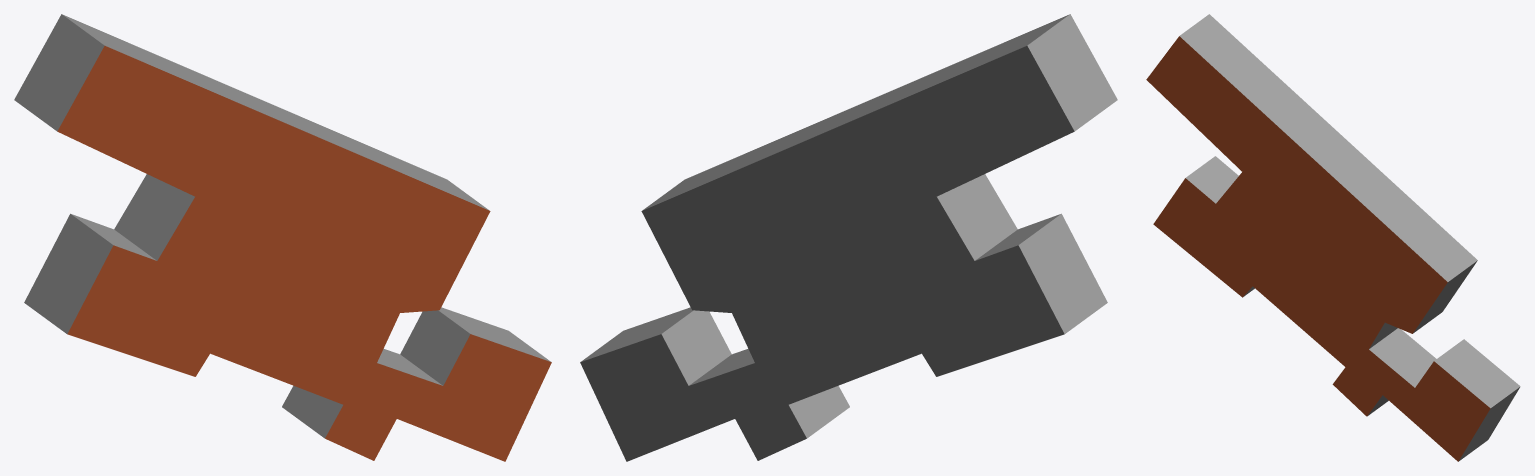
The model's file is construction_3163_assumed_A_Casa_h6m.obj.
3 views of the same model, side by side, from view 1: azimuth 30°, elevation 25°; view 2: azimuth 150°, elevation 25°; view 3: azimuth 330°, elevation 25° (orthographic). The views are drawn at different scales.
Parts seen in each view (by area): view 1: construction_3163_assumed_A_Casa; view 2: construction_3163_assumed_A_Casa; view 3: construction_3163_assumed_A_Casa.
Boxes of the visible parts, x1=… form: construction_3163_assumed_A_Casa: x1=14, y1=14, x2=551, y2=461; construction_3163_assumed_A_Casa: x1=580, y1=14, x2=1117, y2=461; construction_3163_assumed_A_Casa: x1=1146, y1=14, x2=1520, y2=461.
Size of the model in its own units: 39.66 by 39.39 by 6.
